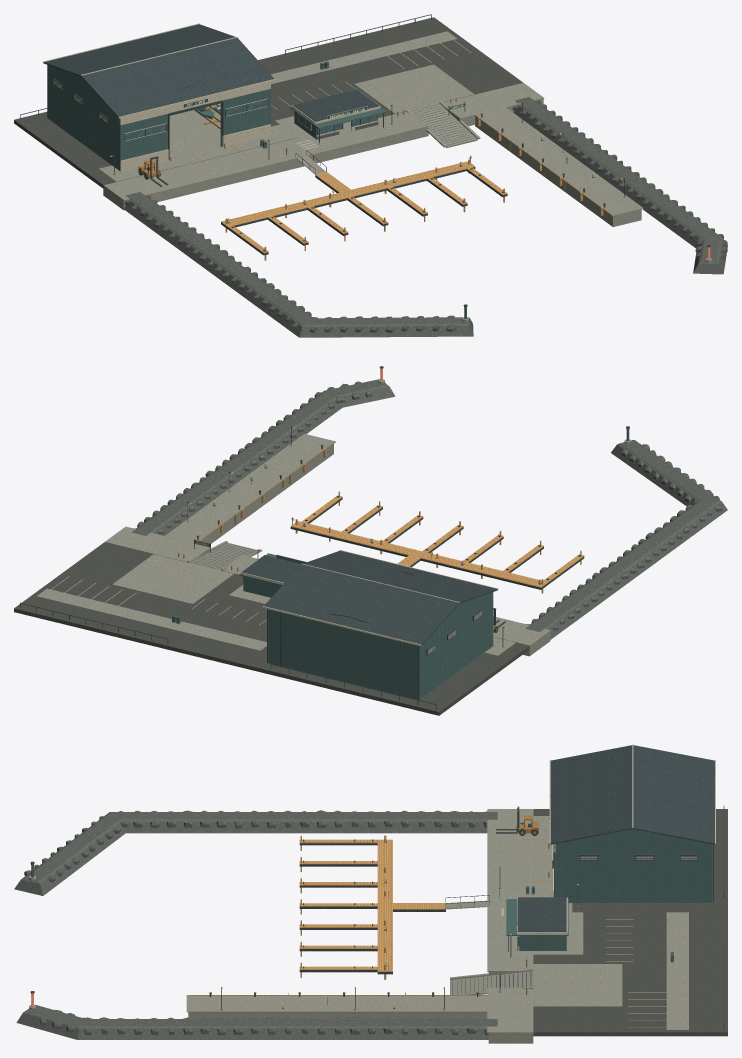
Rendered from breakwater-harbor.glb.
The picture shows the model from 3 angles, top to bottom: view 1: azimuth 30°, elevation 25°; view 2: azimuth 150°, elevation 25°; view 3: azimuth 270°, elevation 25°; orthographic projection. The views are drawn at different scales.
Visible parts, largest first — view 1: shore_and_seawall, armored_breakwaters, warehouse_roof, dry_stack_warehouse, visitor_quay, floating_slips, launch_and_service, harbor_office; view 2: shore_and_seawall, armored_breakwaters, warehouse_roof, dry_stack_warehouse, visitor_quay, floating_slips, launch_and_service, harbor_office; view 3: shore_and_seawall, armored_breakwaters, warehouse_roof, dry_stack_warehouse, visitor_quay, floating_slips, launch_and_service, harbor_office.
Boxes of the visible parts, x1,y1,x2,y2 form: shore_and_seawall: (14,14,544,210); armored_breakwaters: (124,97,727,337); warehouse_roof: (43,23,275,118); dry_stack_warehouse: (47,65,270,171); visitor_quay: (474,106,643,226); floating_slips: (221,150,507,260); launch_and_service: (152,39,480,174); harbor_office: (290,89,386,143); shore_and_seawall: (14,526,550,715); armored_breakwaters: (132,366,727,639); warehouse_roof: (262,550,498,646); dry_stack_warehouse: (267,592,493,699); visitor_quay: (164,433,335,544); floating_slips: (290,491,584,593); launch_and_service: (51,539,262,624); harbor_office: (239,553,306,597); shore_and_seawall: (487,806,727,1043); armored_breakwaters: (14,810,497,1039); warehouse_roof: (549,744,715,844); dry_stack_warehouse: (548,841,713,902); visitor_quay: (186,992,489,1018); floating_slips: (299,835,489,979); launch_and_service: (450,839,674,1027); harbor_office: (506,897,568,951).
Size of the model in its own units: 95.25 by 17.91 by 128.
12 materials, 12 textured.
